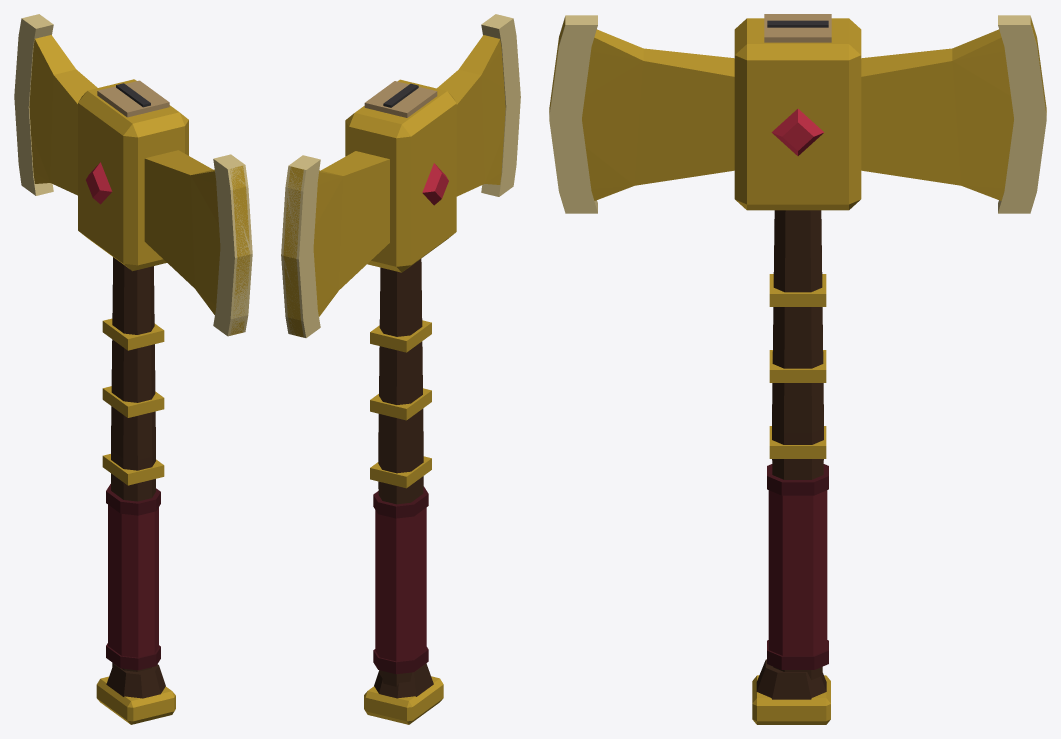
Rendered from GoldAxe.glb.
3 views of the same model, side by side, from view 1: azimuth 30°, elevation 25°; view 2: azimuth 150°, elevation 25°; view 3: azimuth 270°, elevation 25° (orthographic). The views are drawn at different scales.
Parts seen in each view (by area): view 1: Head, Handle; view 2: Head, Handle; view 3: Head, Handle.
Boxes of the visible parts, x1,y1,x2,y2 form: Head: (14,14,252,336); Handle: (96,80,175,724); Head: (281,14,520,337); Handle: (364,81,443,724); Head: (549,15,1046,213); Handle: (752,14,831,724).
Bounding box in the file's own units: 0.5512 × 3.98 × 2.59.
